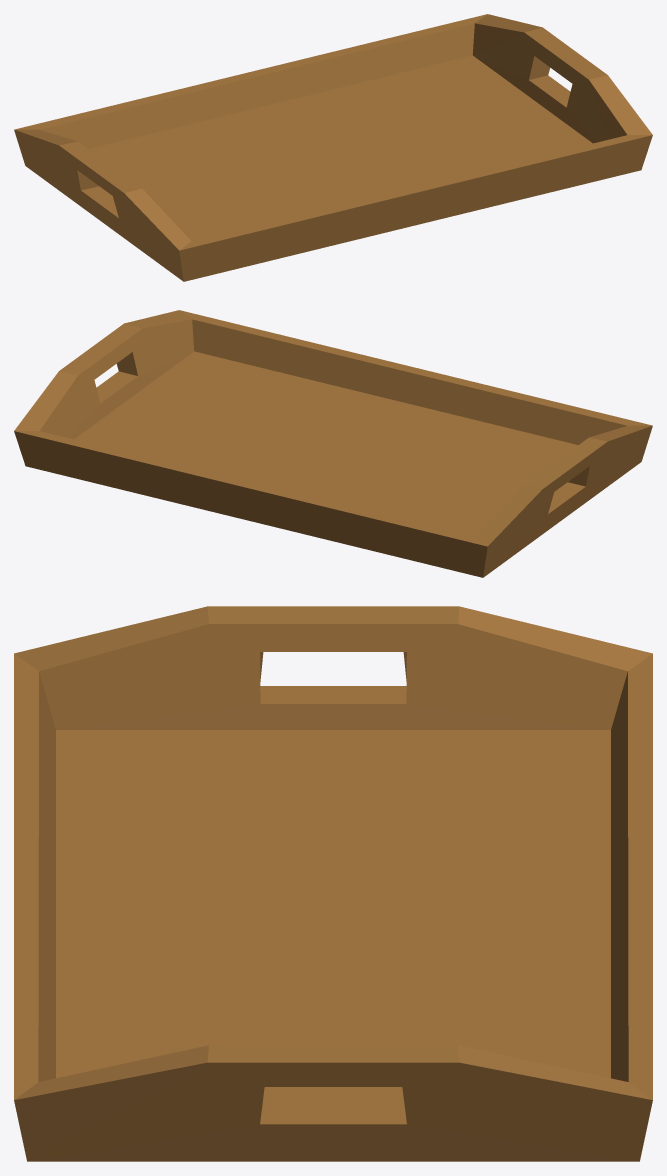
Rendered from tray-small.fbx.
3 views of the same model, one above another, from view 1: azimuth 30°, elevation 25°; view 2: azimuth 150°, elevation 25°; view 3: azimuth 270°, elevation 25° (orthographic). The views are drawn at different scales.
Parts seen in each view (by area): view 1: tray-small; view 2: tray-small; view 3: tray-small.
Boxes of the visible parts, <box> form: tray-small: <box>14,14,652,281</box>; tray-small: <box>14,310,652,577</box>; tray-small: <box>14,606,652,1161</box>.
Size of the model in its own units: 0.521 by 0.0594 by 0.3084.
